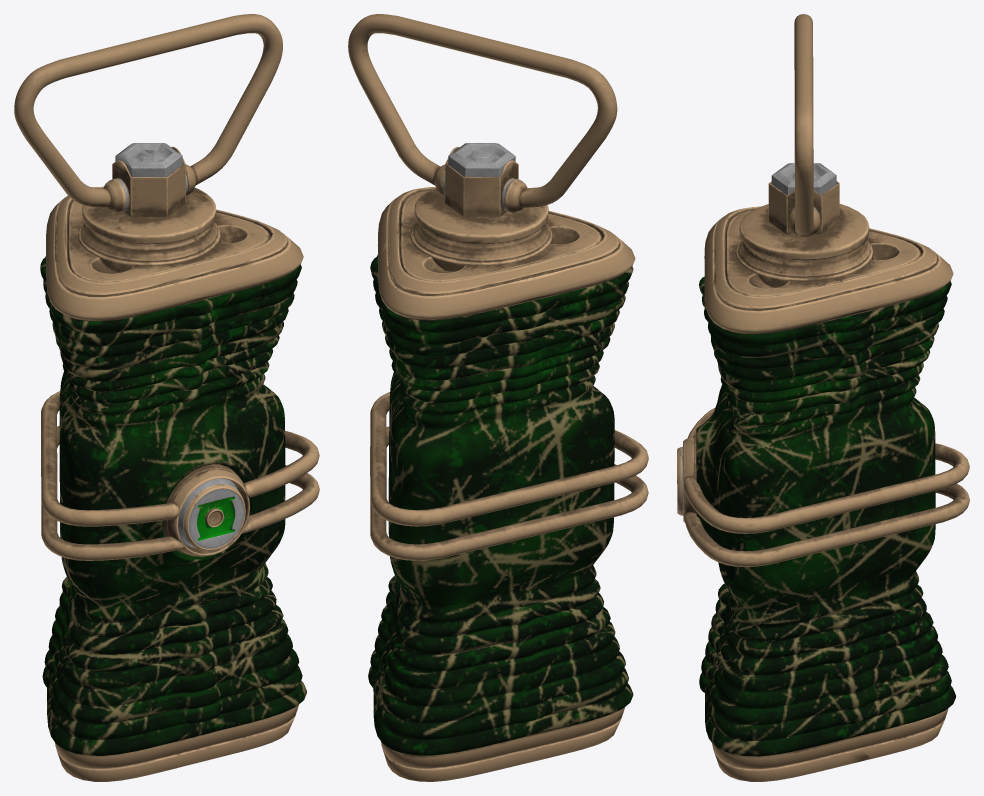
File: john_stewart_lantern_medium.glb
3 views of the same model, side by side, from view 1: azimuth 30°, elevation 25°; view 2: azimuth 150°, elevation 25°; view 3: azimuth 270°, elevation 25° (orthographic). The views are drawn at different scales.
Parts seen in each view (by area): view 1: lantern_lantern_0, gold_gold_0, metal_metal_0; view 2: lantern_lantern_0, gold_gold_0, metal_metal_0; view 3: lantern_lantern_0, gold_gold_0, metal_metal_0.
Boxes of the visible parts, bbox=[...] form: lantern_lantern_0: bbox=[40, 256, 306, 755]; gold_gold_0: bbox=[14, 14, 319, 781]; metal_metal_0: bbox=[115, 143, 244, 548]; lantern_lantern_0: bbox=[368, 255, 633, 755]; gold_gold_0: bbox=[348, 14, 648, 781]; metal_metal_0: bbox=[443, 143, 515, 210]; lantern_lantern_0: bbox=[696, 276, 955, 756]; gold_gold_0: bbox=[677, 14, 969, 781]; metal_metal_0: bbox=[681, 163, 836, 515].
Bounding box in the file's own units: 1.01 × 2.5 × 0.99.
Materials: 3 (3 with a texture image).
